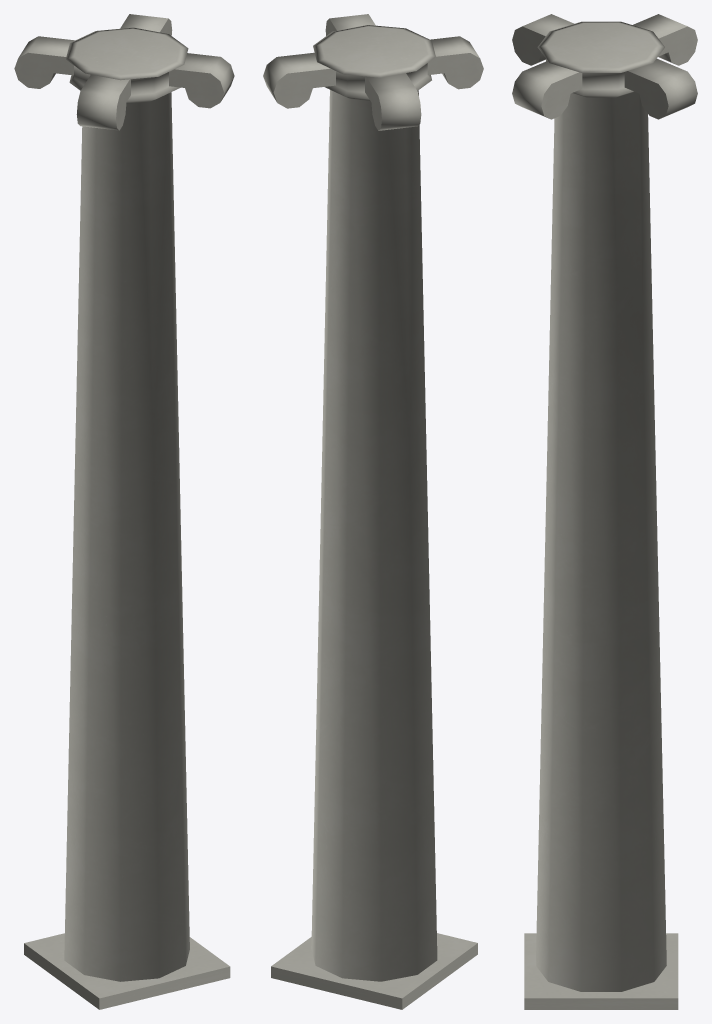
Rendered from ColonnaForo_UP.fbx.
3 renders of one model, left to right at view 1: azimuth 30°, elevation 25°; view 2: azimuth 150°, elevation 25°; view 3: azimuth 270°, elevation 25°, orthographic.
Parts seen in each view (by area): view 1: Cylinder.003; view 2: Cylinder.003; view 3: Cylinder.003.
Part boxes in pixels (box(x1,y1,x2,y2)): Cylinder.003: box(14, 14, 234, 1009); Cylinder.003: box(263, 14, 483, 1009); Cylinder.003: box(512, 14, 697, 1009).
Bounding box in the file's own units: 304 × 1683 × 304.
